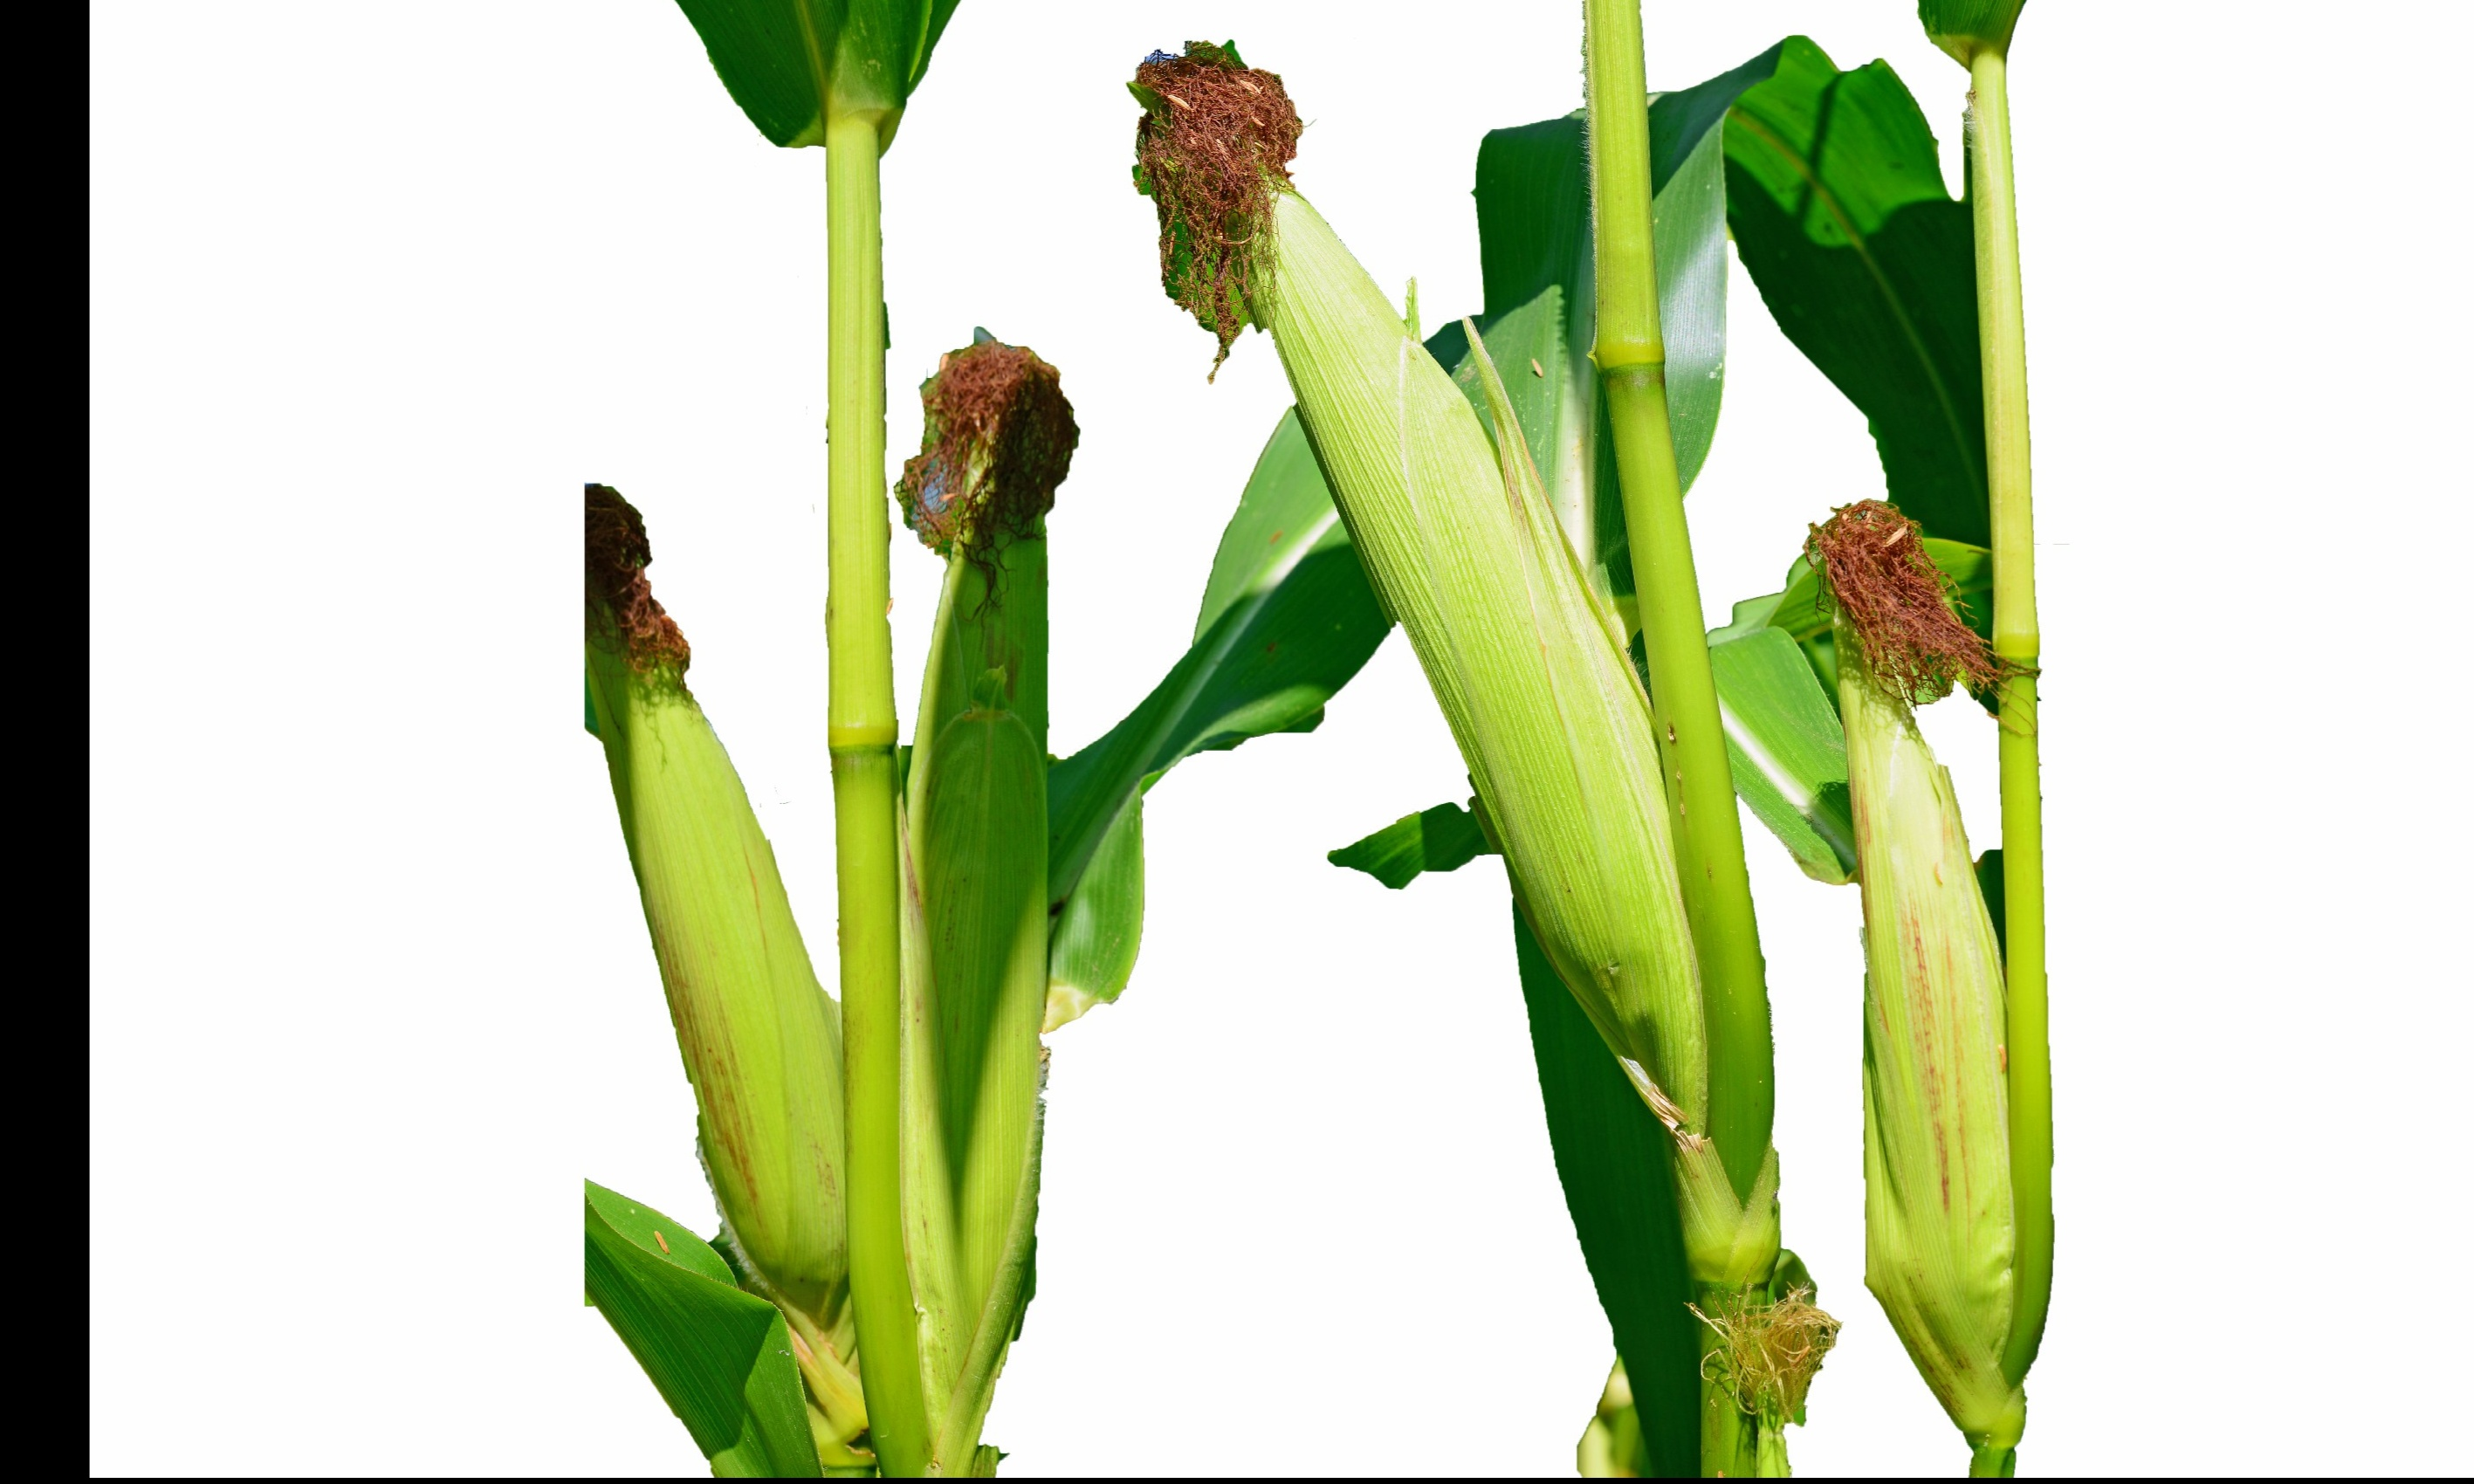corn_plant: (1127, 18, 1775, 1260), (1789, 486, 2086, 1447), (588, 479, 878, 1403), (894, 337, 1111, 1472)
